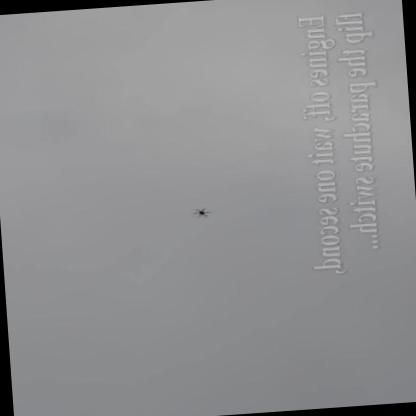drone: (190, 204, 213, 220)
